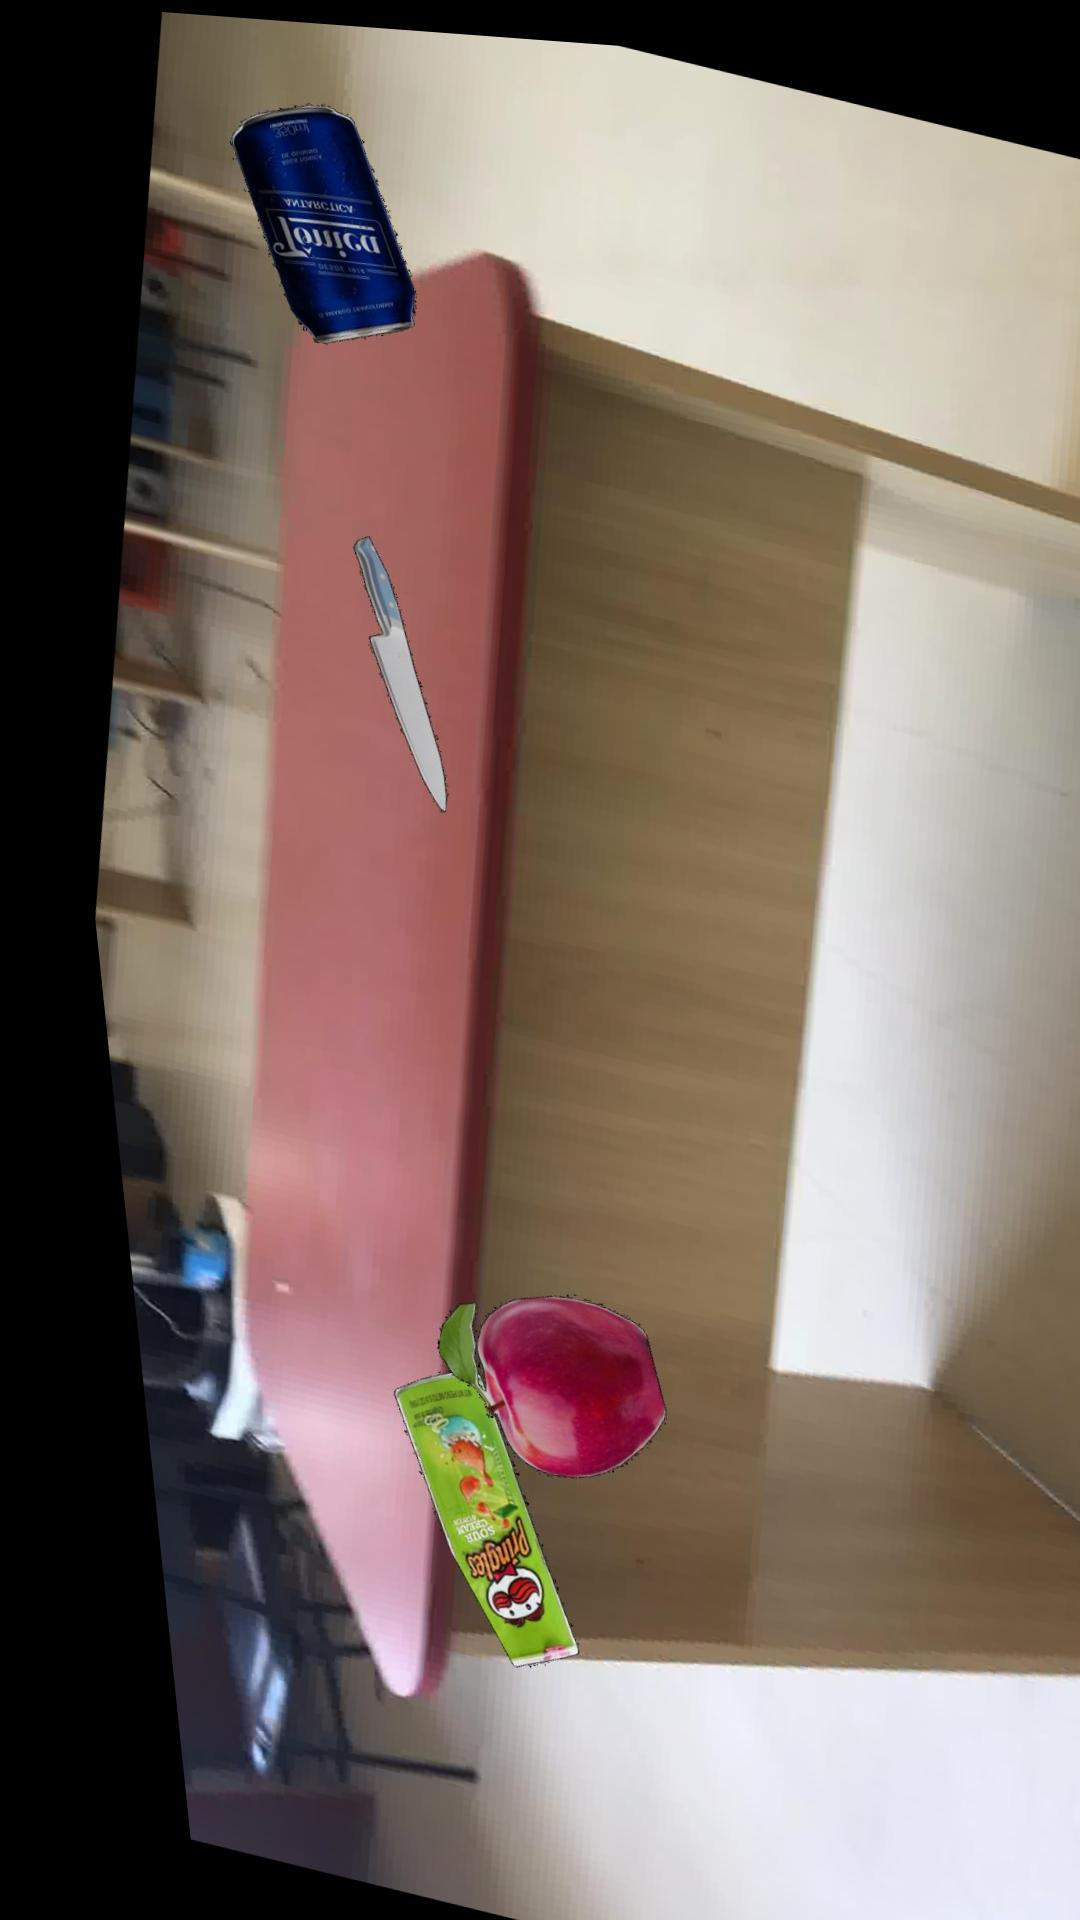apple: (409, 1290, 637, 1473)
knife: (342, 531, 431, 807)
pringles: (364, 1367, 545, 1663)
tonic: (228, 100, 410, 340)
